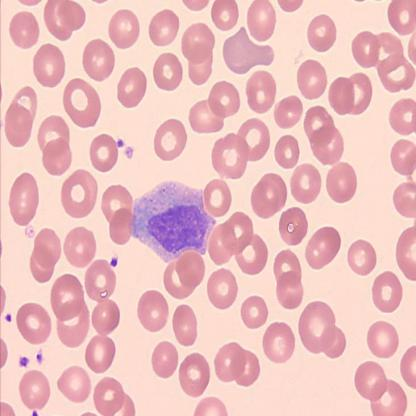Myelocyte: (135, 180, 217, 257)
